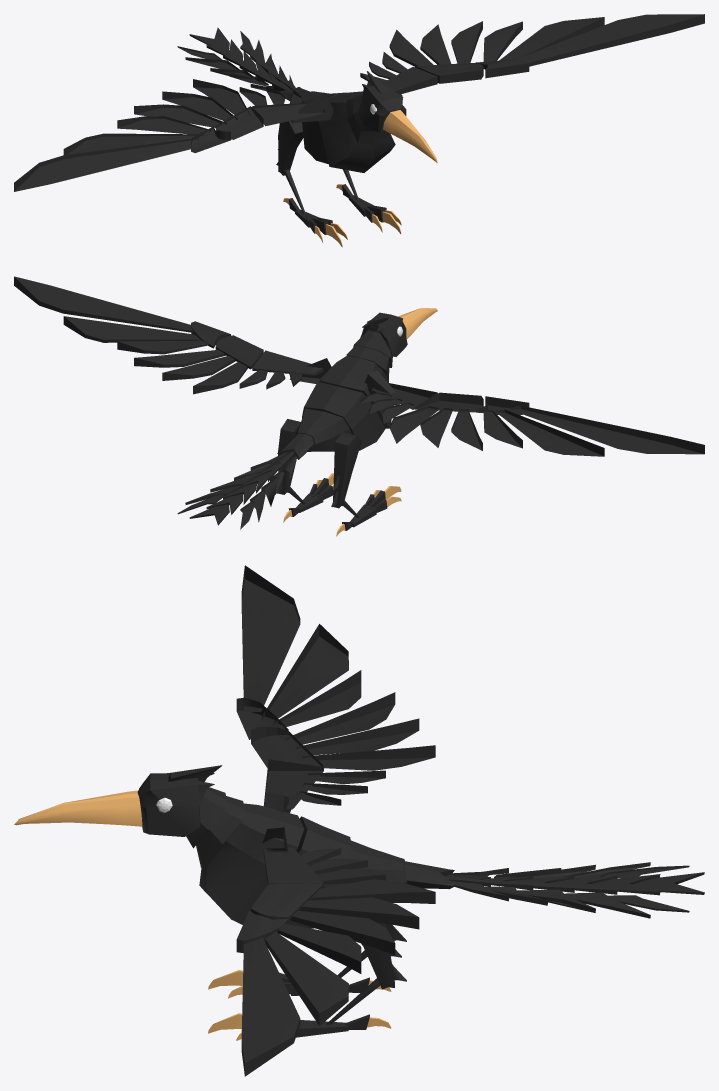
Rendered from Crow.fbx.
The picture shows the model from 3 angles, top to bottom: view 1: azimuth 30°, elevation 25°; view 2: azimuth 150°, elevation 25°; view 3: azimuth 270°, elevation 25°; orthographic projection. The views are drawn at different scales.
Visible parts, largest first — view 1: bird_node01_GRP_Body_GRP_Raven_model01_GRP_Arms_GRP_Arm_R_GR (×6), bird_node01_GRP_Body_GRP_Raven_model01_GRP_Arm_L_GRP_Arms_GR (×6), bird_node01_GRP_Body_GRP_Raven_model01_GRP_Arm_L_GRP_Arms_Fe, bird_node01_GRP_Body_GRP_Raven_model01_GRP_Arms_GRP_Arm_R_Fe, bird_node01_Chest_GRP_Body_GRP_Raven_model01, bird_node01_GRP_Body_GRP_Raven_model01_GRP_Head_Head, bird_node01_GRP_Body_GRP_Raven_model01_GRP_Head_Beak_Top, bird_node01_GRP_Body_GRP_Raven_model01_Arm_Lower_L_GRP_Arm_L, bird_node01_GRP_Body_GRP_Raven_model01_Thigh_R_GRP_Leg_Low_G, bird_node01_GRP_Body_GRP_Raven_model01_GRP_Arm_L_GRP_Arms_Ar, bird_node01_GRP_Body_GRP_Raven_model01_GRP_Arms_GRP_Arm_R_Ar, bird_node01_GRP_Body_GRP_Raven_model01_GRP_Arms_Arm_Rower_R_ (+4 smaller); view 2: bird_node01_GRP_Body_GRP_Raven_model01_GRP_Arm_L_GRP_Arms_GR (×6), bird_node01_GRP_Body_GRP_Raven_model01_GRP_Arms_GRP_Arm_R_GR (×6), bird_node01_GRP_Body_GRP_Raven_model01_GRP_Arms_GRP_Arm_R_Fe, bird_node01_GRP_Body_GRP_Raven_model01_GRP_Arm_L_GRP_Arms_Fe, bird_node01_GRP_Body_GRP_Raven_model01_Torso, bird_node01_Chest_GRP_Body_GRP_Raven_model01, bird_node01_GRP_Body_GRP_Raven_model01_Hips, bird_node01_GRP_Body_GRP_Raven_model01_Thigh_R_GRP_Leg_Low_G, bird_node01_GRP_Body_GRP_Raven_model01_GRP_Arm_L_GRP_Arms_Ar, bird_node01_GRP_Body_GRP_Raven_model01_GRP_Arms_Arm_Rower_R_, bird_node01_GRP_Body_GRP_Raven_model01_GRP_Head_Head, bird_node01_GRP_Body_GRP_Raven_model01_Arm_Lower_L_GRP_Arm_L (+7 smaller); view 3: bird_node01_GRP_Body_GRP_Raven_model01_GRP_Arm_L_GRP_Arms_GR (×6), bird_node01_GRP_Body_GRP_Raven_model01_GRP_Arms_GRP_Arm_R_GR (×6), bird_node01_Chest_GRP_Body_GRP_Raven_model01, bird_node01_GRP_Body_GRP_Raven_model01_GRP_Arms_GRP_Arm_R_Fe, bird_node01_GRP_Body_GRP_Raven_model01_GRP_Arm_L_GRP_Arms_Fe, bird_node01_GRP_Body_GRP_Raven_model01_GRP_Head_Head, bird_node01_GRP_Body_GRP_Raven_model01_GRP_Head_Beak_Top, bird_node01_GRP_Body_GRP_Raven_model01_Arm_Lower_L_GRP_Arm_L, bird_node01_GRP_Body_GRP_Raven_model01_GRP_Arms_GRP_Arm_R_Ar, bird_node01_GRP_Body_GRP_Raven_model01_GRP_Arms_Arm_Rower_R_, bird_node01_GRP_Body_GRP_Raven_model01_GRP_Arm_L_GRP_Arms_Ar, bird_node01_GRP_Body_GRP_Raven_model01_Torso (+7 smaller).
Boxes of the visible parts, x1,y1,x2,y2 form: bird_node01_GRP_Body_GRP_Raven_model01_GRP_Arms_GRP_Arm_R_GR (×6): (63, 79, 250, 155); bird_node01_GRP_Body_GRP_Raven_model01_GRP_Arm_L_GRP_Arms_GR (×6): (389, 17, 604, 78); bird_node01_GRP_Body_GRP_Raven_model01_GRP_Arm_L_GRP_Arms_Fe: (518, 14, 704, 66); bird_node01_GRP_Body_GRP_Raven_model01_GRP_Arms_GRP_Arm_R_Fe: (14, 137, 198, 191); bird_node01_Chest_GRP_Body_GRP_Raven_model01: (319, 91, 395, 172); bird_node01_GRP_Body_GRP_Raven_model01_GRP_Head_Head: (357, 81, 406, 132); bird_node01_GRP_Body_GRP_Raven_model01_GRP_Head_Beak_Top: (383, 110, 437, 162); bird_node01_GRP_Body_GRP_Raven_model01_Arm_Lower_L_GRP_Arm_L: (415, 63, 483, 83); bird_node01_GRP_Body_GRP_Raven_model01_Thigh_R_GRP_Leg_Low_G: (278, 121, 303, 175); bird_node01_GRP_Body_GRP_Raven_model01_GRP_Arm_L_GRP_Arms_Ar: (382, 67, 437, 94); bird_node01_GRP_Body_GRP_Raven_model01_GRP_Arms_GRP_Arm_R_Ar: (252, 102, 324, 126); bird_node01_GRP_Body_GRP_Raven_model01_GRP_Arms_Arm_Rower_R_: (215, 106, 263, 139); bird_node01_GRP_Body_GRP_Raven_model01_GRP_Arm_L_GRP_Arms_GR (×6): (63, 316, 247, 394); bird_node01_GRP_Body_GRP_Raven_model01_GRP_Arms_GRP_Arm_R_GR (×6): (389, 396, 604, 456); bird_node01_GRP_Body_GRP_Raven_model01_GRP_Arms_GRP_Arm_R_Fe: (510, 405, 704, 454); bird_node01_GRP_Body_GRP_Raven_model01_GRP_Arm_L_GRP_Arms_Fe: (14, 276, 193, 332); bird_node01_GRP_Body_GRP_Raven_model01_Torso: (302, 382, 385, 450); bird_node01_Chest_GRP_Body_GRP_Raven_model01: (319, 355, 394, 428); bird_node01_GRP_Body_GRP_Raven_model01_Hips: (294, 408, 351, 451); bird_node01_GRP_Body_GRP_Raven_model01_Thigh_R_GRP_Leg_Low_G: (333, 432, 361, 508); bird_node01_GRP_Body_GRP_Raven_model01_GRP_Arm_L_GRP_Arms_Ar: (252, 350, 323, 375); bird_node01_GRP_Body_GRP_Raven_model01_GRP_Arms_Arm_Rower_R_: (415, 392, 483, 412); bird_node01_GRP_Body_GRP_Raven_model01_GRP_Head_Head: (360, 312, 407, 356); bird_node01_GRP_Body_GRP_Raven_model01_Arm_Lower_L_GRP_Arm_L: (215, 335, 263, 369); bird_node01_GRP_Body_GRP_Raven_model01_GRP_Arm_L_GRP_Arms_GR (×6): (236, 879, 435, 1025); bird_node01_GRP_Body_GRP_Raven_model01_GRP_Arms_GRP_Arm_R_GR (×6): (236, 624, 435, 770); bird_node01_Chest_GRP_Body_GRP_Raven_model01: (199, 803, 304, 924); bird_node01_GRP_Body_GRP_Raven_model01_GRP_Arms_GRP_Arm_R_Fe: (241, 565, 300, 711); bird_node01_GRP_Body_GRP_Raven_model01_GRP_Arm_L_GRP_Arms_Fe: (241, 937, 300, 1076); bird_node01_GRP_Body_GRP_Raven_model01_GRP_Head_Head: (137, 773, 214, 836); bird_node01_GRP_Body_GRP_Raven_model01_GRP_Head_Beak_Top: (14, 790, 142, 826); bird_node01_GRP_Body_GRP_Raven_model01_Arm_Lower_L_GRP_Arm_L: (251, 883, 323, 920); bird_node01_GRP_Body_GRP_Raven_model01_GRP_Arms_GRP_Arm_R_Ar: (263, 759, 323, 809); bird_node01_GRP_Body_GRP_Raven_model01_GRP_Arms_Arm_Rower_R_: (251, 727, 323, 767); bird_node01_GRP_Body_GRP_Raven_model01_GRP_Arm_L_GRP_Arms_Ar: (263, 847, 323, 886); bird_node01_GRP_Body_GRP_Raven_model01_Torso: (287, 816, 351, 928).
Bounding box in the file's own units: 219 × 50.88 × 129.
